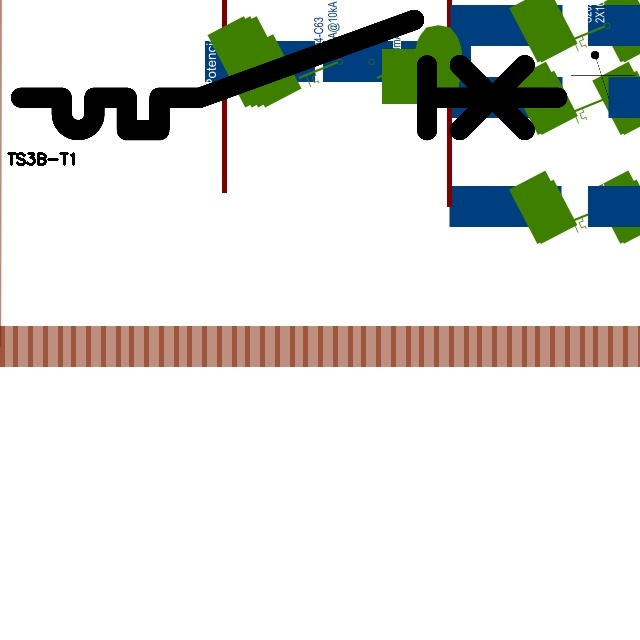interruptor_termomagnetico: (7, 6, 571, 144)
